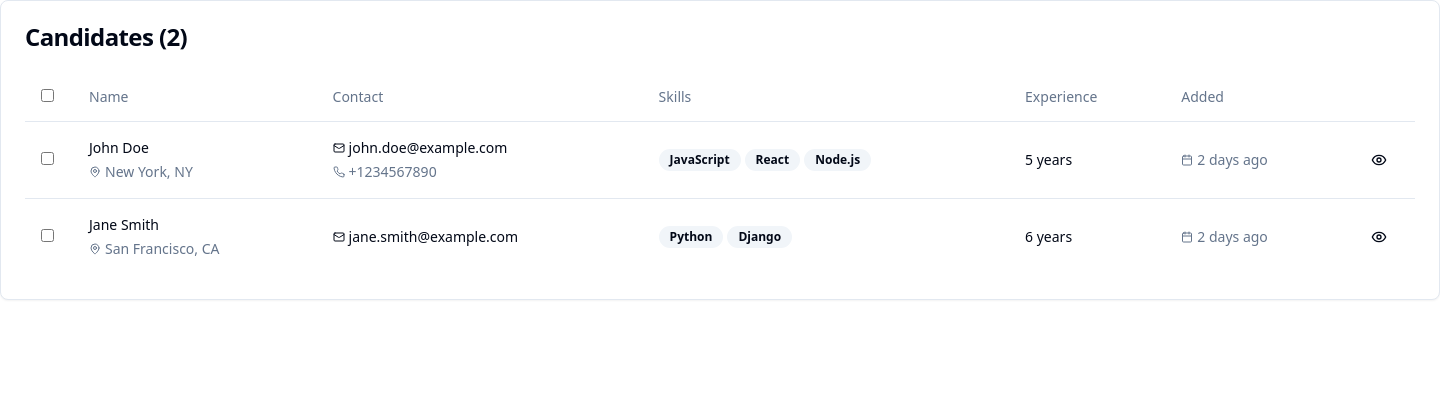
Test: CandidateList › handles candidate selection
This screenshot has width=1440, height=411.
Click the checkbox in the row of "New York, NY" at (48, 158), box [41, 152, 54, 164]
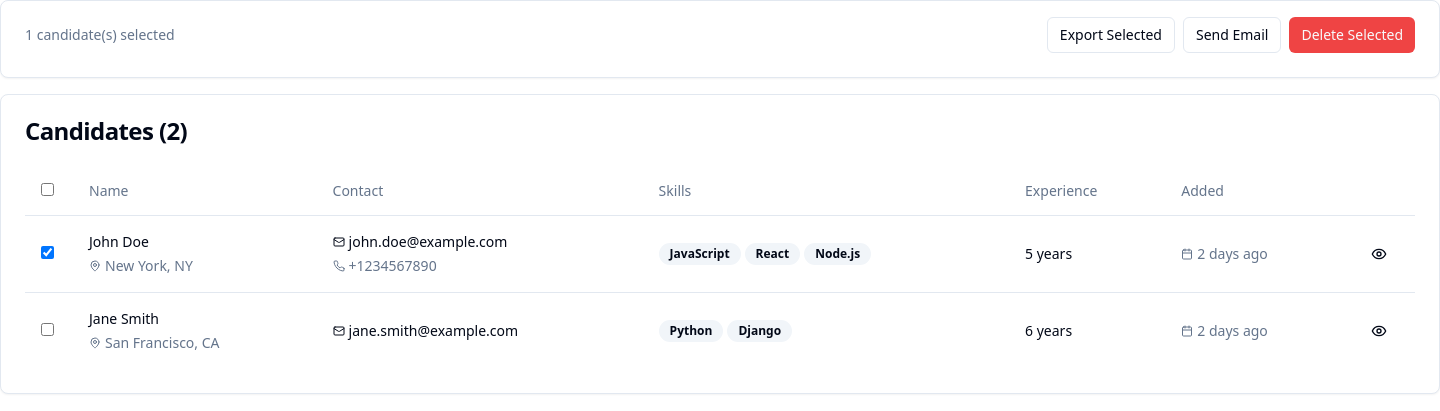
Check: the text "1 candidate(s) selected" is shown, box [25, 25, 175, 45]
Check: the button "Export Selected" is shown, box [1047, 17, 1175, 53]
Check: the button "Send Email" is shown, box [1183, 17, 1281, 53]
